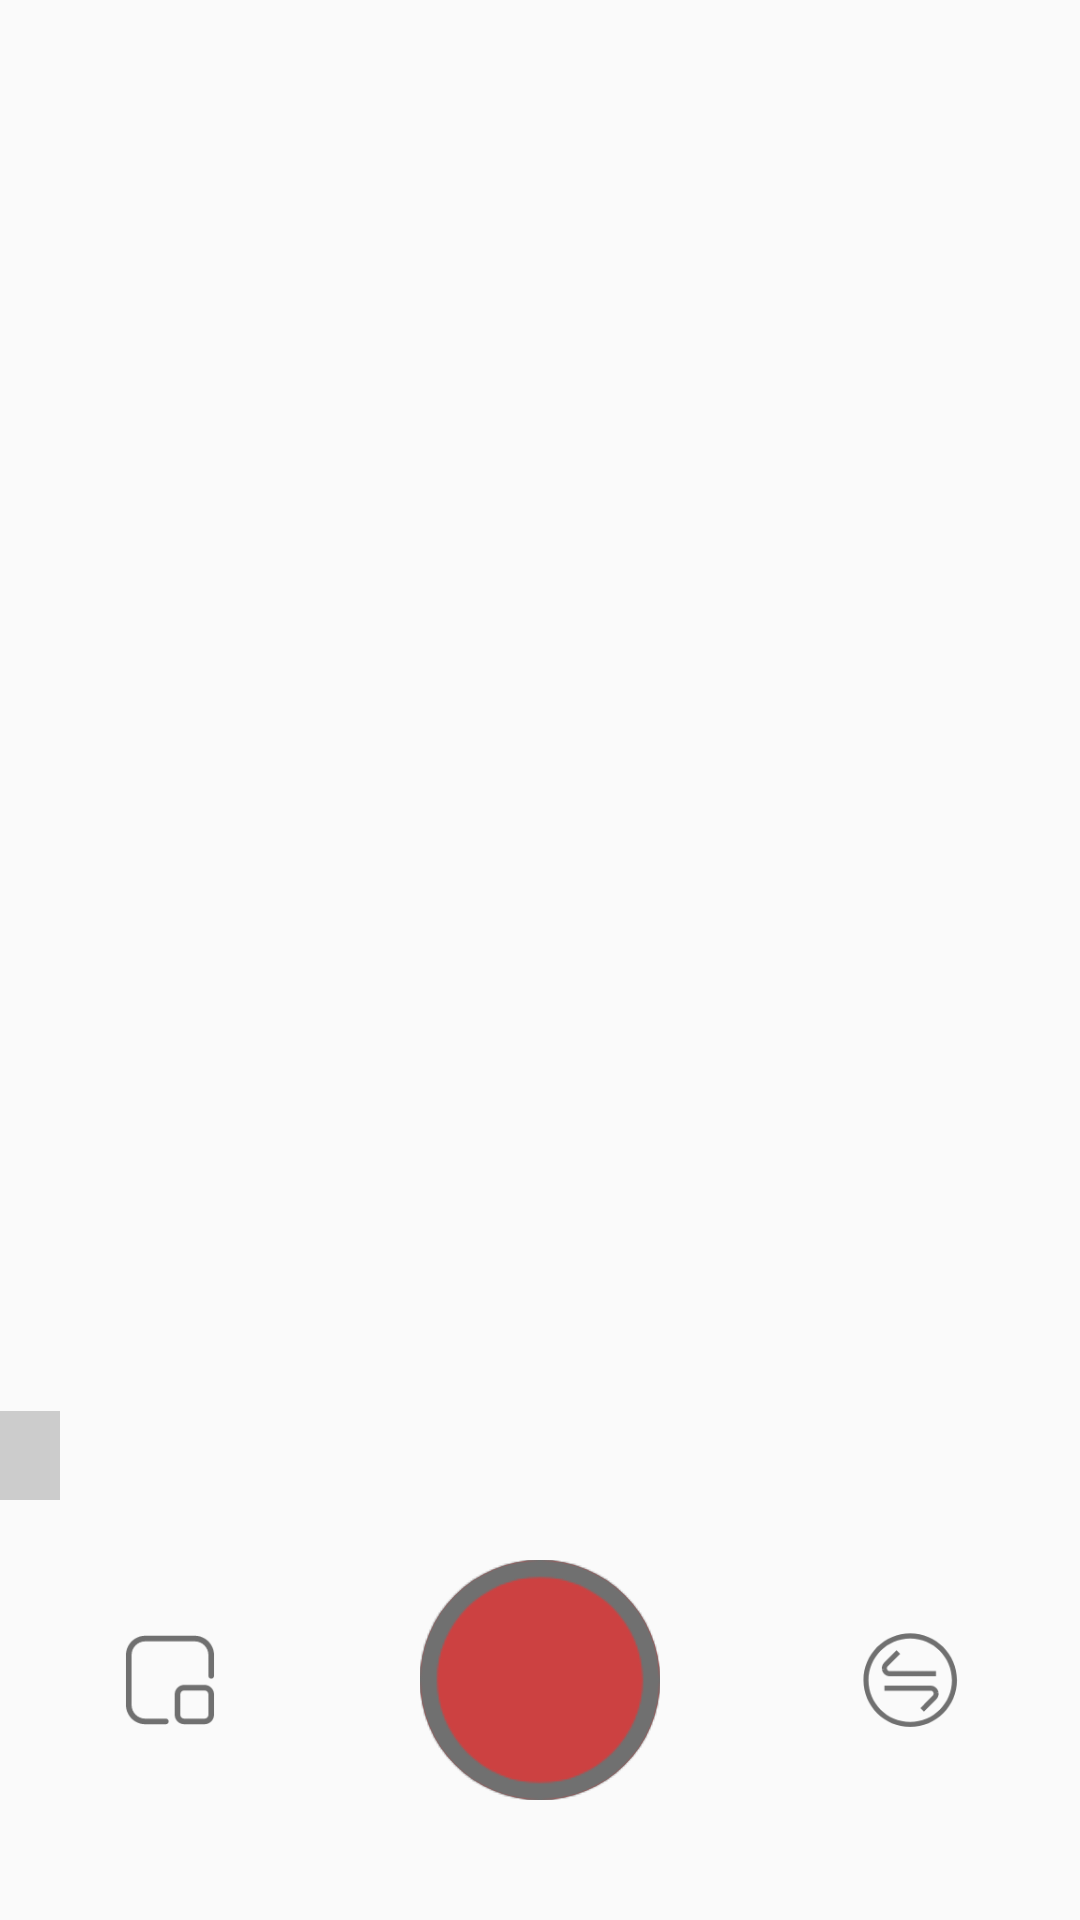

Icons on this 1080×1920 Android screen, each with the point to tap as (x=x, y=y):
camera face: (x=910, y=1680)
camera size: (x=170, y=1680)
